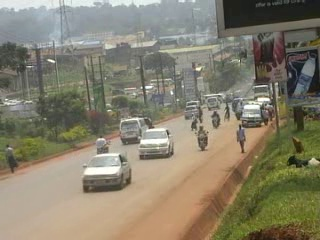Car: (80, 150, 134, 192), (137, 125, 176, 159), (182, 103, 200, 121)
Motorcycle: (192, 123, 211, 151), (94, 132, 111, 155), (210, 109, 221, 128)
